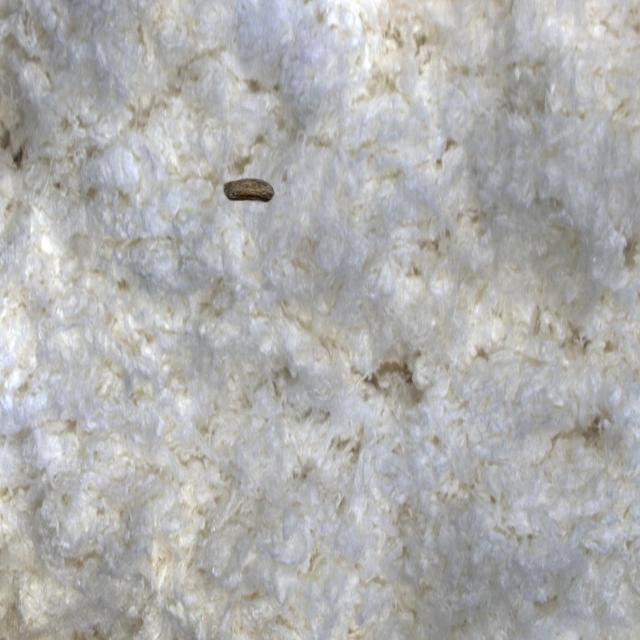dust: (203, 136, 292, 253)
